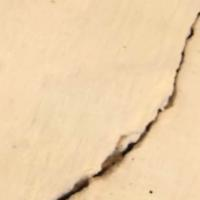crack: (44, 10, 199, 199)
